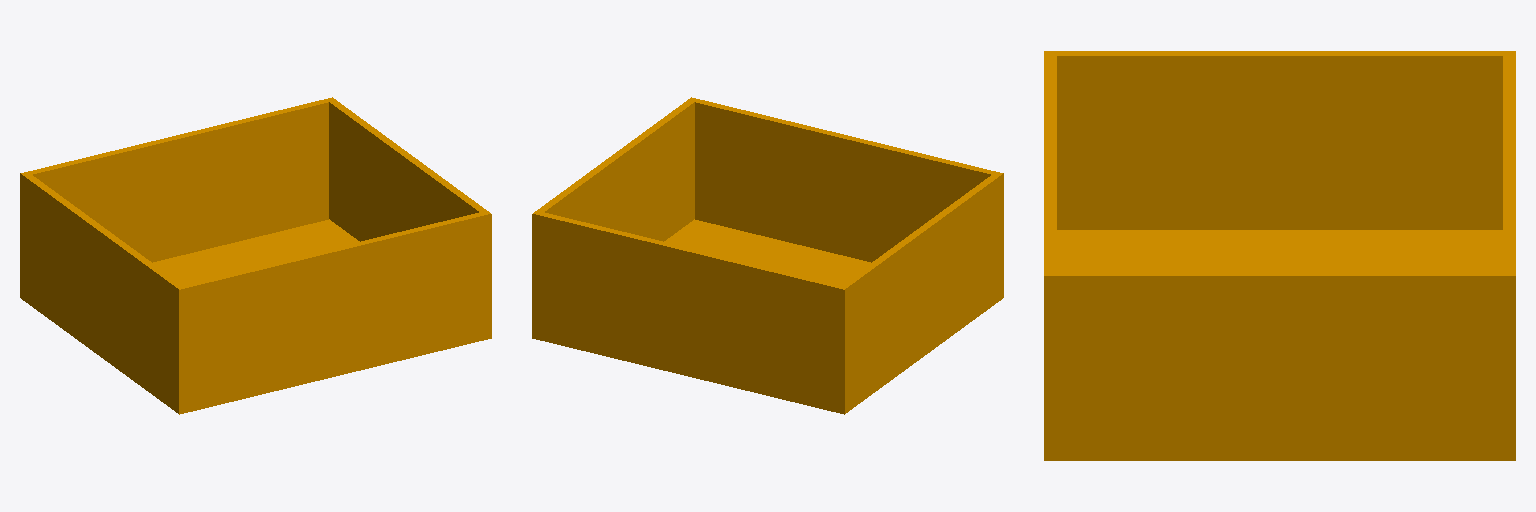
The robot description file, URDF, robot "hinged_box_2":
<?xml version='1.0' encoding='utf-8'?>
<robot name="hinged_box_2">
  <link name="body">
    <inertial>
      <origin xyz="0.0 0.0 0.04292391919954696" />
      <mass value="0.4" />
      <inertia ixx="0.0054229392490922545" iyy="0.006511750777630416" izz="0.010526793178528736" ixy="0.0" ixz="0.0" iyz="0.0" />
    </inertial>
    <collision>
      <geometry>
        <mesh filename="part_00.obj" />
      </geometry>
    </collision>
    <collision>
      <geometry>
        <mesh filename="part_01.obj" />
      </geometry>
    </collision>
    <collision>
      <geometry>
        <mesh filename="part_02.obj" />
      </geometry>
    </collision>
    <collision>
      <geometry>
        <mesh filename="part_03.obj" />
      </geometry>
    </collision>
    <collision>
      <geometry>
        <mesh filename="part_04.obj" />
      </geometry>
    </collision>
    <visual>
      <geometry>
        <mesh filename="visual.obj" />
      </geometry>
    </visual>
  </link>
</robot>

--- Facts derived from the render (not from the file) ---
The picture shows the robot from 3 angles, left to right: view 1: azimuth 30°, elevation 25°; view 2: azimuth 150°, elevation 25°; view 3: azimuth 270°, elevation 25°; orthographic projection.
Model hinged_box_2 with 1 links and 0 joints (none), rooted at body, posed every joint at zero.
Links seen in each view (by area): view 1: body; view 2: body; view 3: body.
Boxes of the visible links, x1,y1,x2,y2 form: body: (20,97,491,414); body: (532,97,1003,414); body: (1044,51,1515,460).
Size in the robot's own frame: 0.34 by 0.3 by 0.13 metres.
Meshes: 1 distinct files referenced, 1 mesh visuals loaded (1 OBJ).
